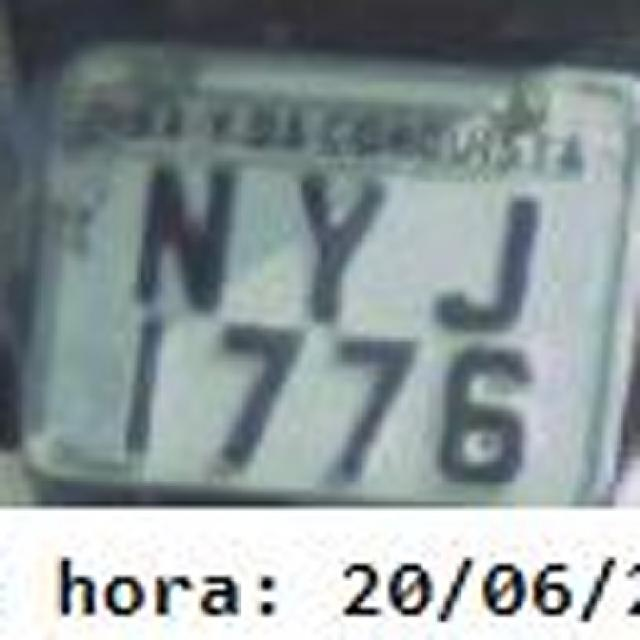3: (300, 552, 412, 636)
6: (416, 316, 556, 512)
7: (176, 312, 324, 492), (295, 325, 440, 500)
9: (352, 544, 452, 636)
N: (112, 152, 252, 328)
Y: (268, 156, 392, 329)
